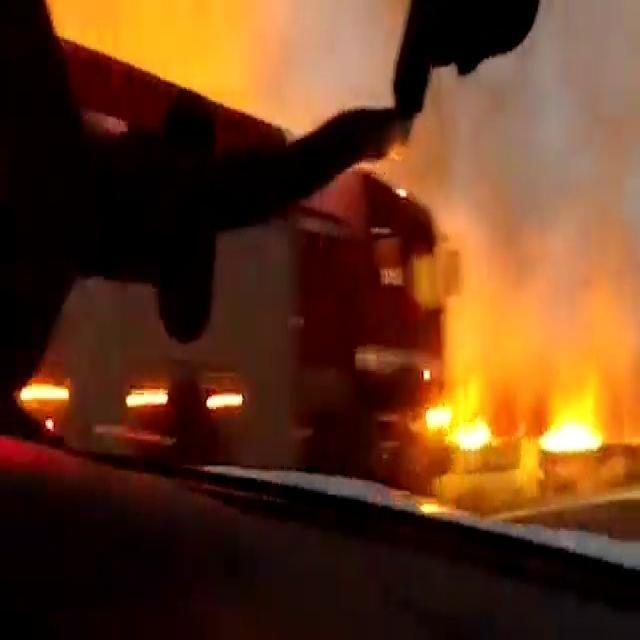Fire: (537, 378, 605, 455), (453, 391, 489, 453)
Smoke: (436, 52, 635, 394)
